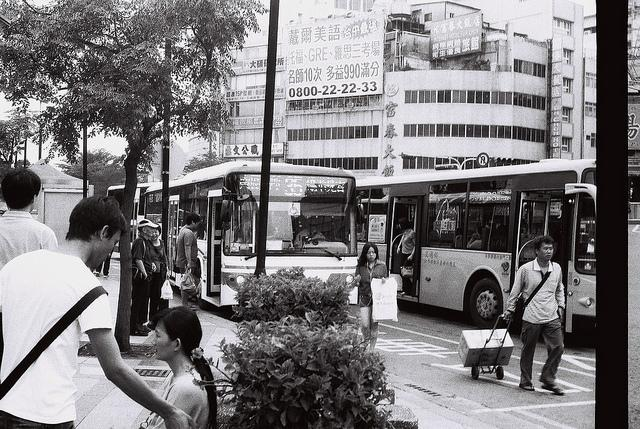bus: (360, 158, 600, 338), (134, 159, 360, 308)
